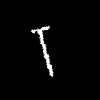double_crochet: (31, 26, 52, 75)
